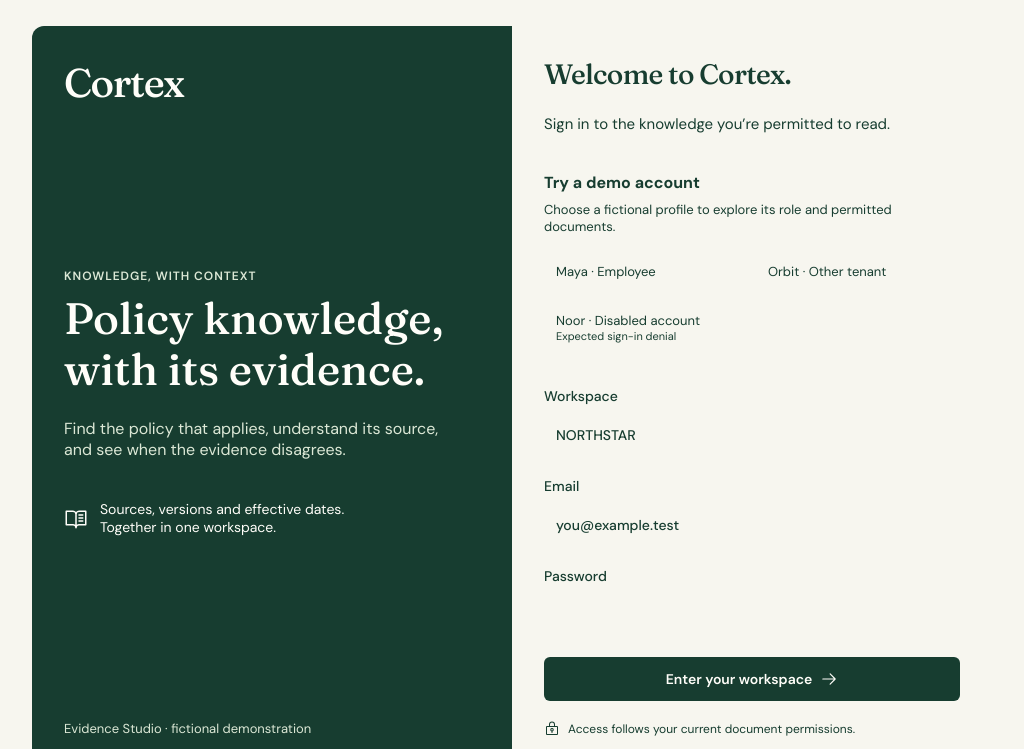
a failed post-login session check remains visible instead of silently leaving the login form
Click the button "Maya · Employee" at x=646, y=271, box [544, 247, 748, 295]
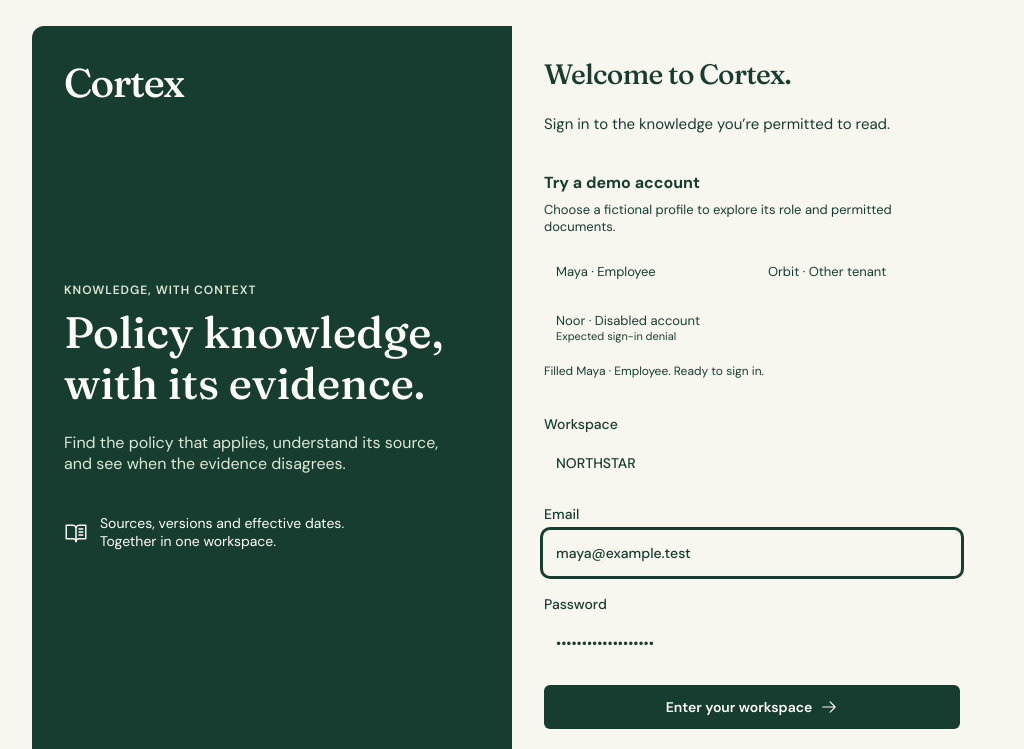
Click the button "Enter your workspace" at x=752, y=707, box [544, 685, 960, 729]
(page scrolled)
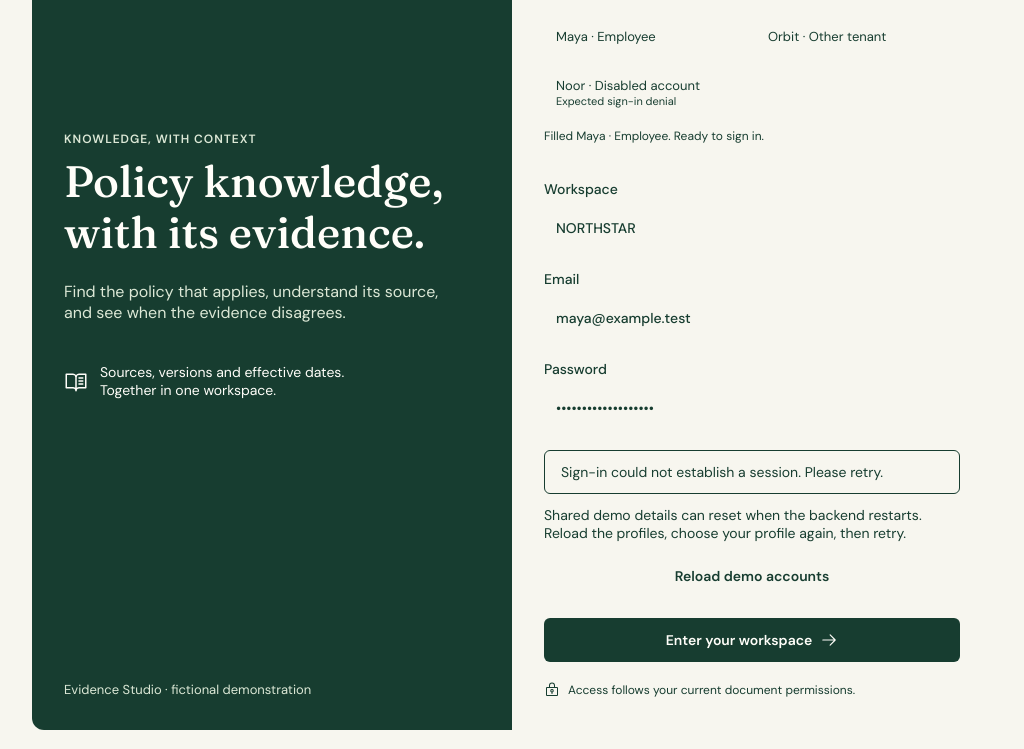
Expected: the message "Sign-in could not establish a session. Please retry." is shown, [544, 450, 960, 494]
Expected: the button "Reload demo accounts" is enabled, [544, 554, 960, 598]
